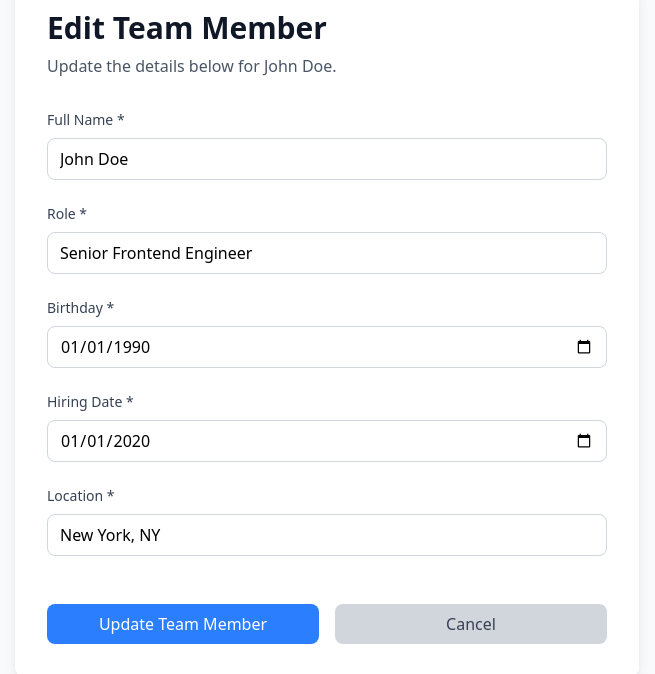
EditUserForm › shows error message on submission failure
The width and height of the screenshot is (655, 674).
Replace the text in the field labelled "Full Name *" with "Jane Doe" at point(327, 159), box [47,138,607,180]
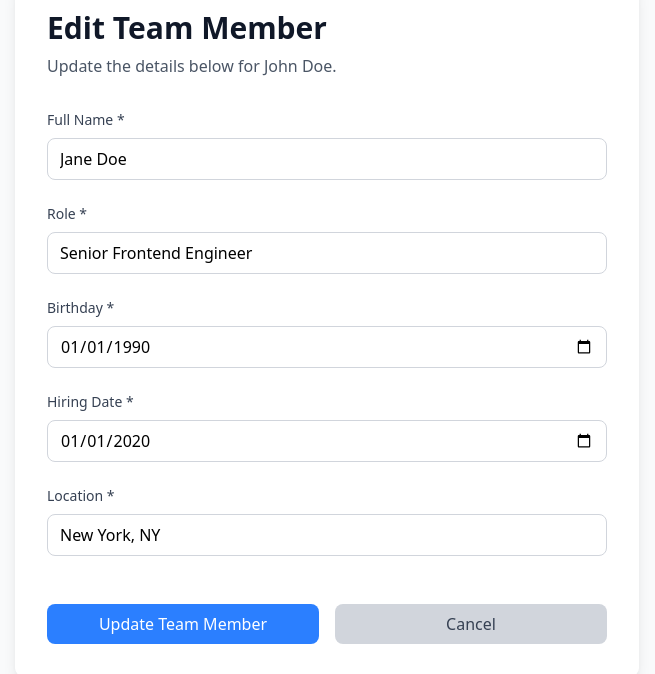
Click the button "Update Team Member".
click(183, 624)  # box [47,604,319,644]
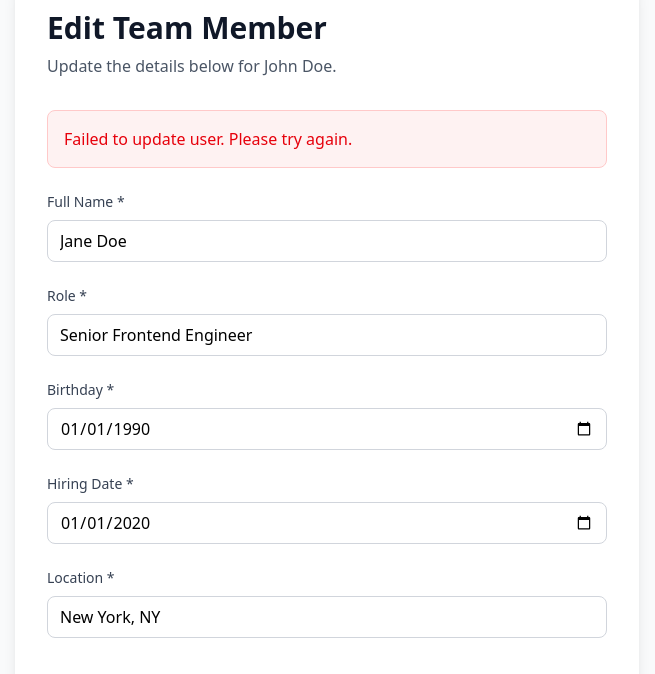
Check: the text "Failed to update user. Please try again." is shown, box [64,128,352,150]
